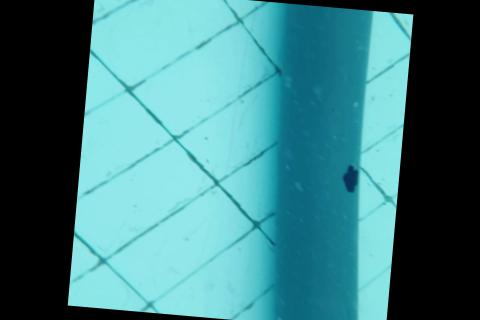kebocoran: (339, 163, 359, 193)
